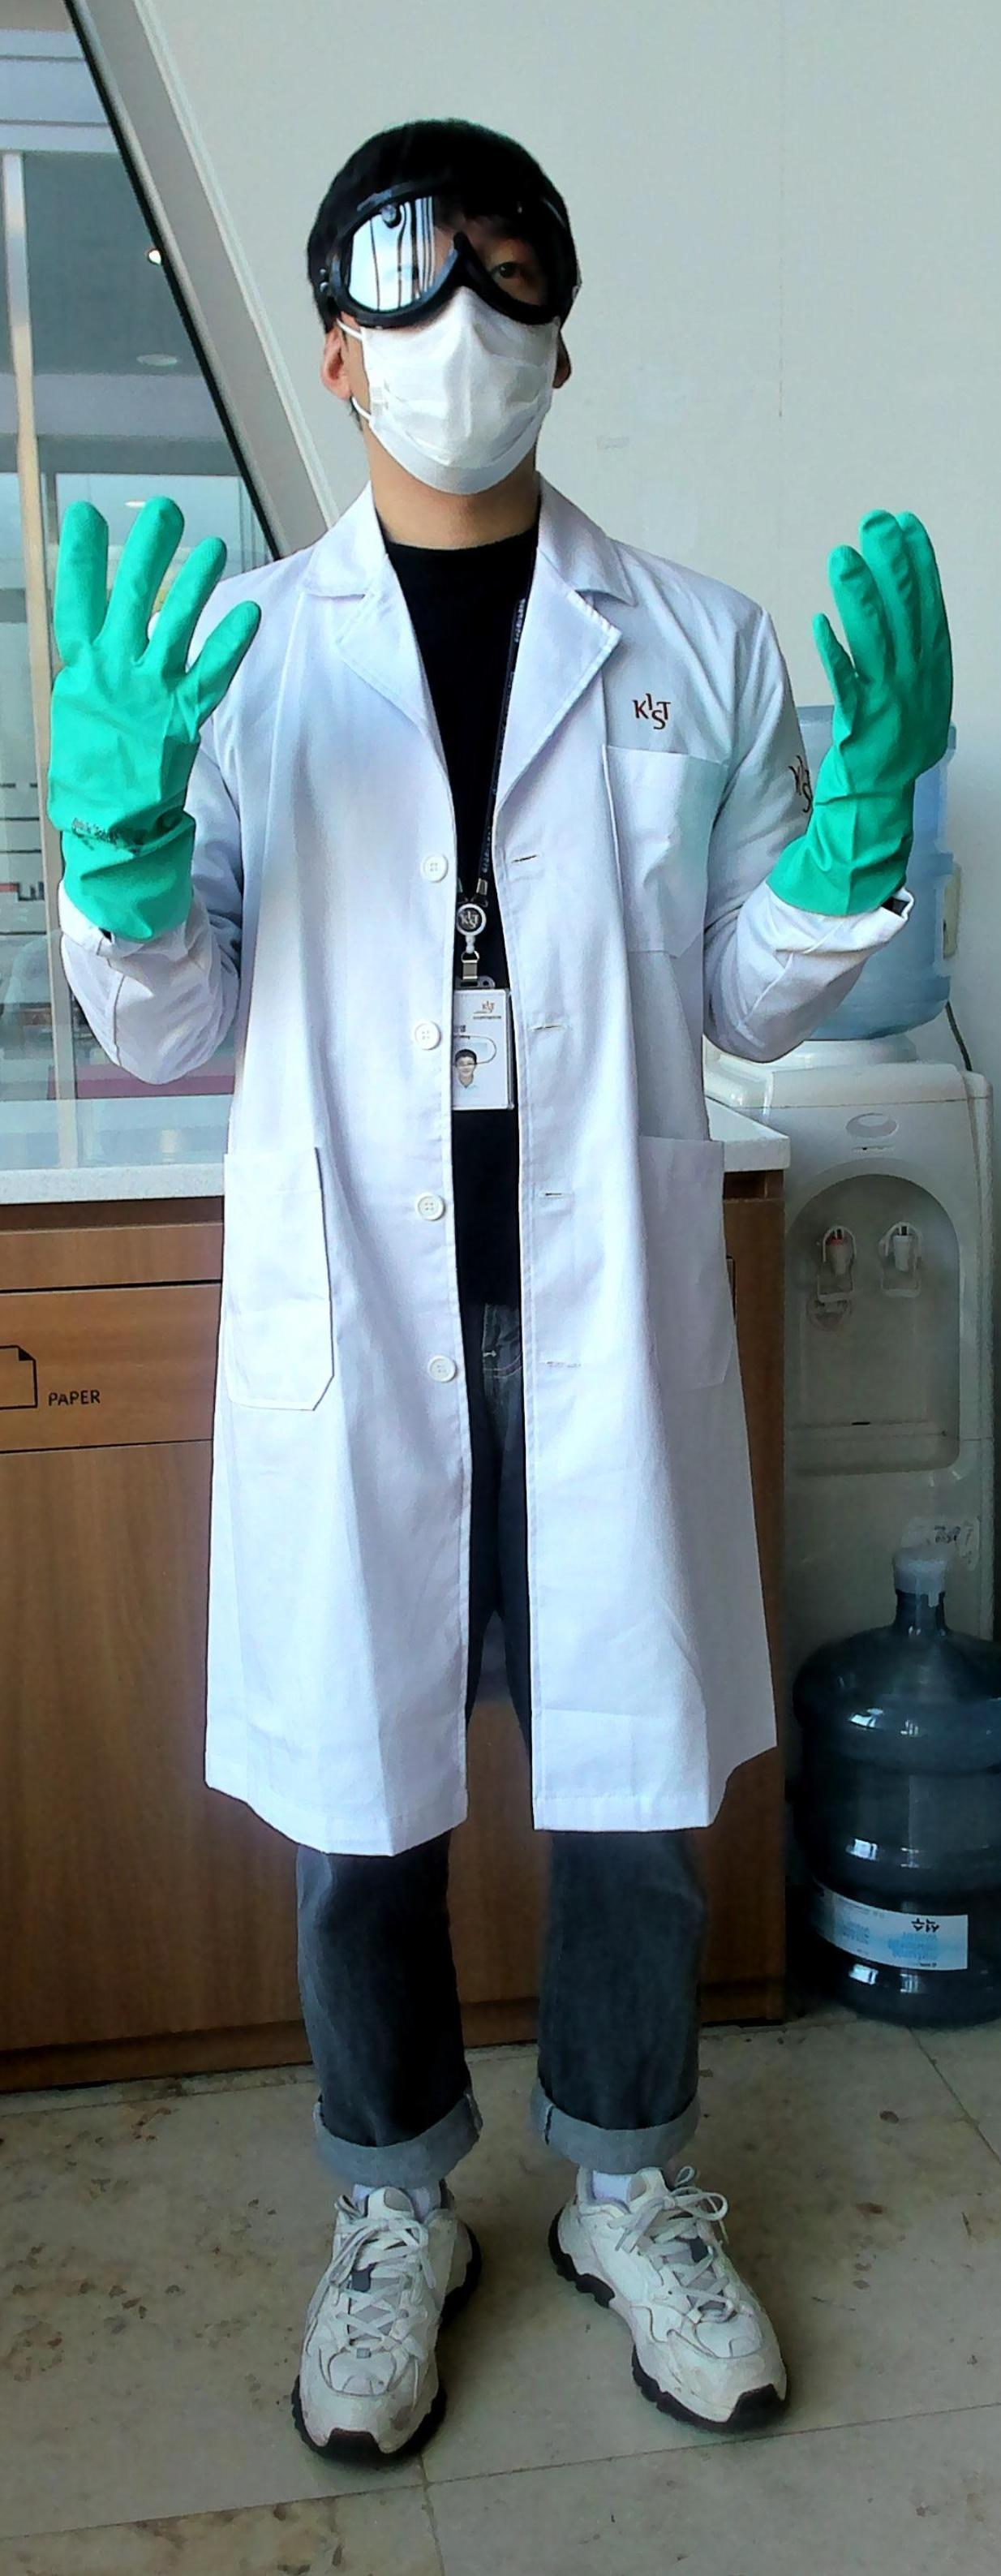lab_coat: (238, 568, 763, 1820)
